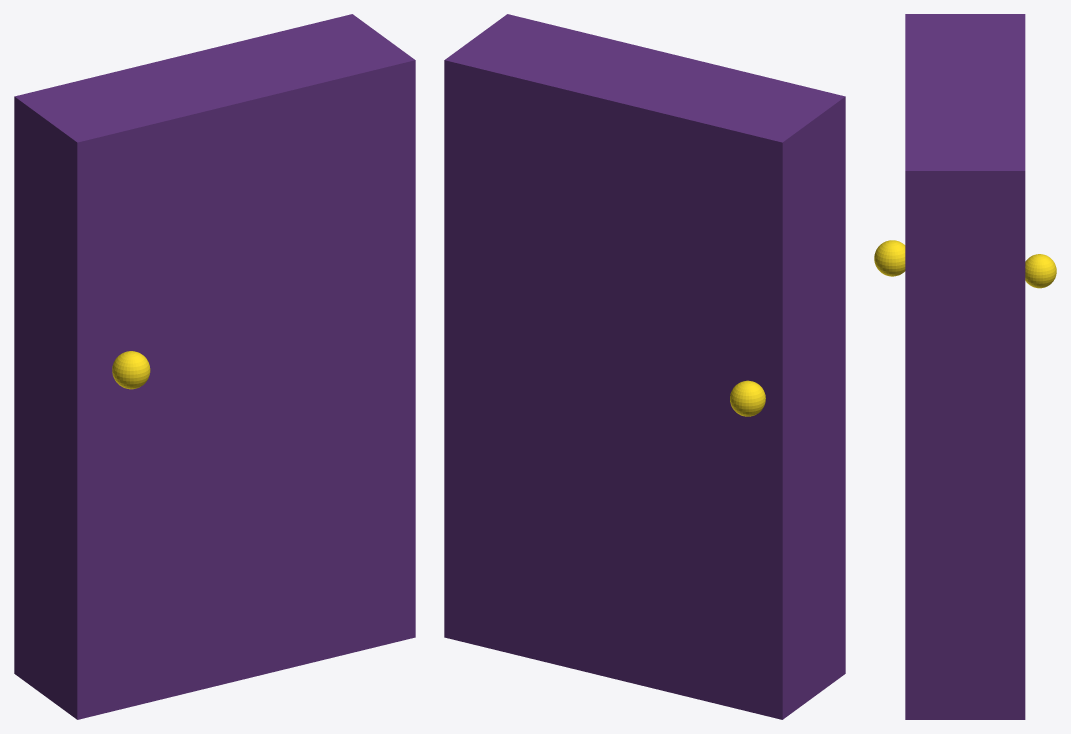
File: door1.obj
3 renders of one model, left to right at view 1: azimuth 30°, elevation 25°; view 2: azimuth 150°, elevation 25°; view 3: azimuth 270°, elevation 25°, orthographic. The views are drawn at different scales.
Parts seen in each view (by area): view 1: Cube.001_Cube.005; view 2: Cube.001_Cube.005; view 3: Cube.001_Cube.005.
Part boxes in pixels (box(x1,y1,x2,y2)): Cube.001_Cube.005: box(14, 14, 415, 719); Cube.001_Cube.005: box(444, 14, 845, 719); Cube.001_Cube.005: box(874, 14, 1056, 719).
Bounding box in the file's own units: 1.7 × 2.77 × 0.8344.
